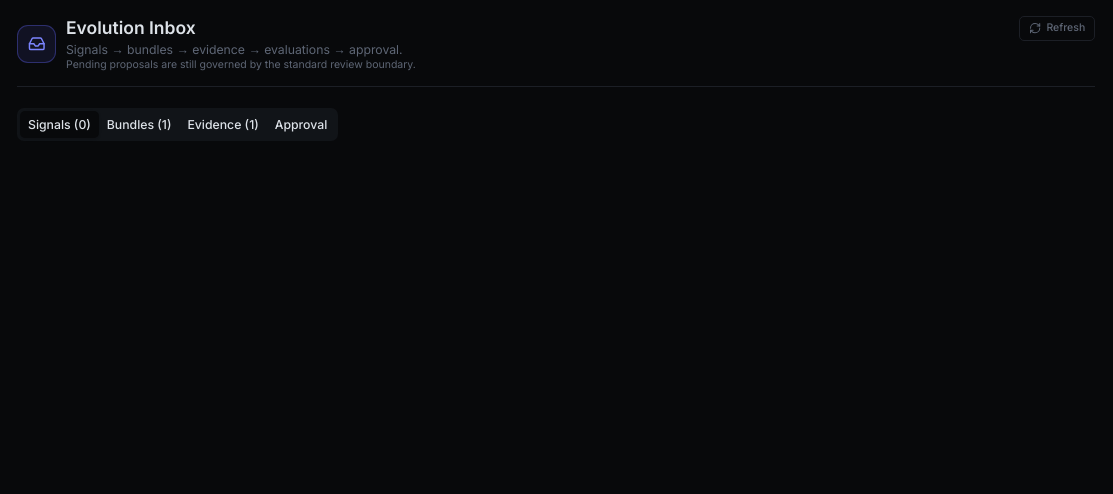
Test: EvolutionInboxPage › disables rollback when the server reports unsupported members
This screenshot has width=1113, height=494.
Click the tab "Bundles (1)": click(139, 124) left=99, top=111, right=179, bottom=138
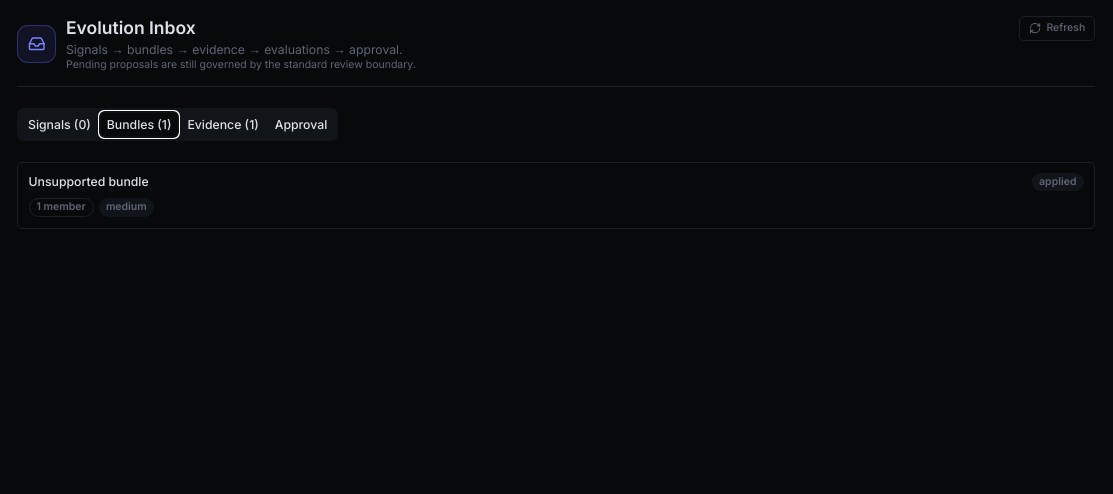
Click the button "Unsupported bundle applied 1 member medium": click(89, 182) left=17, top=162, right=1095, bottom=228
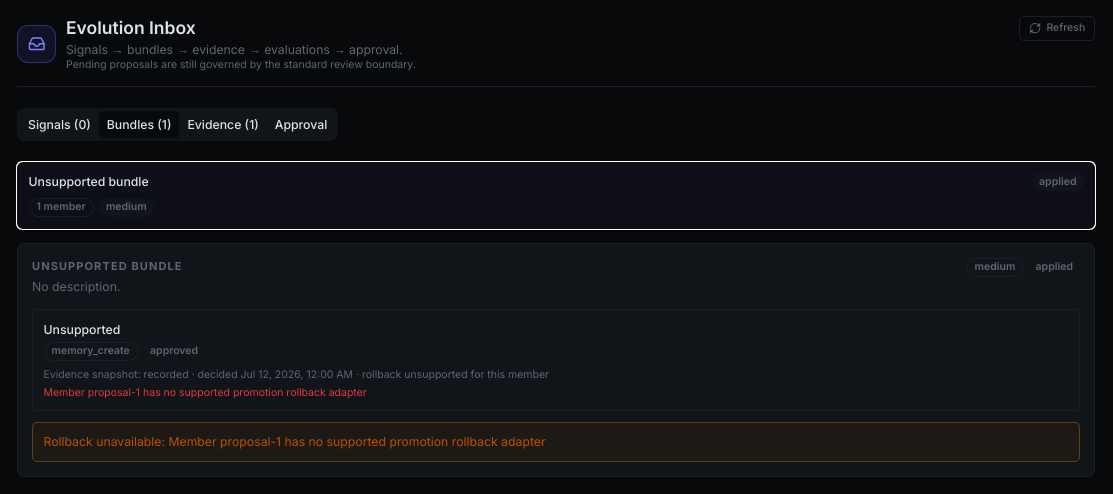
expect the text "Rollback unavailable:" is shown: met, box left=44, top=434, right=546, bottom=449
